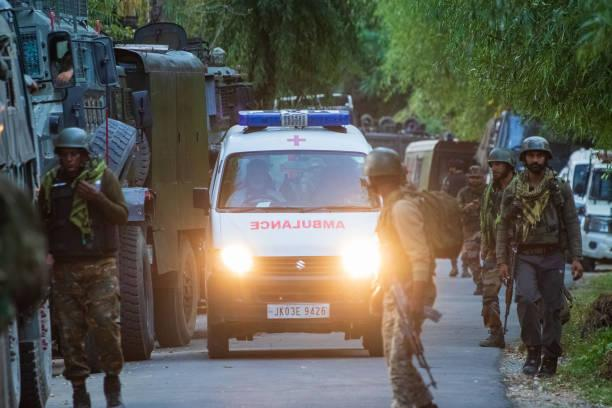ER: (210, 108, 398, 354)
